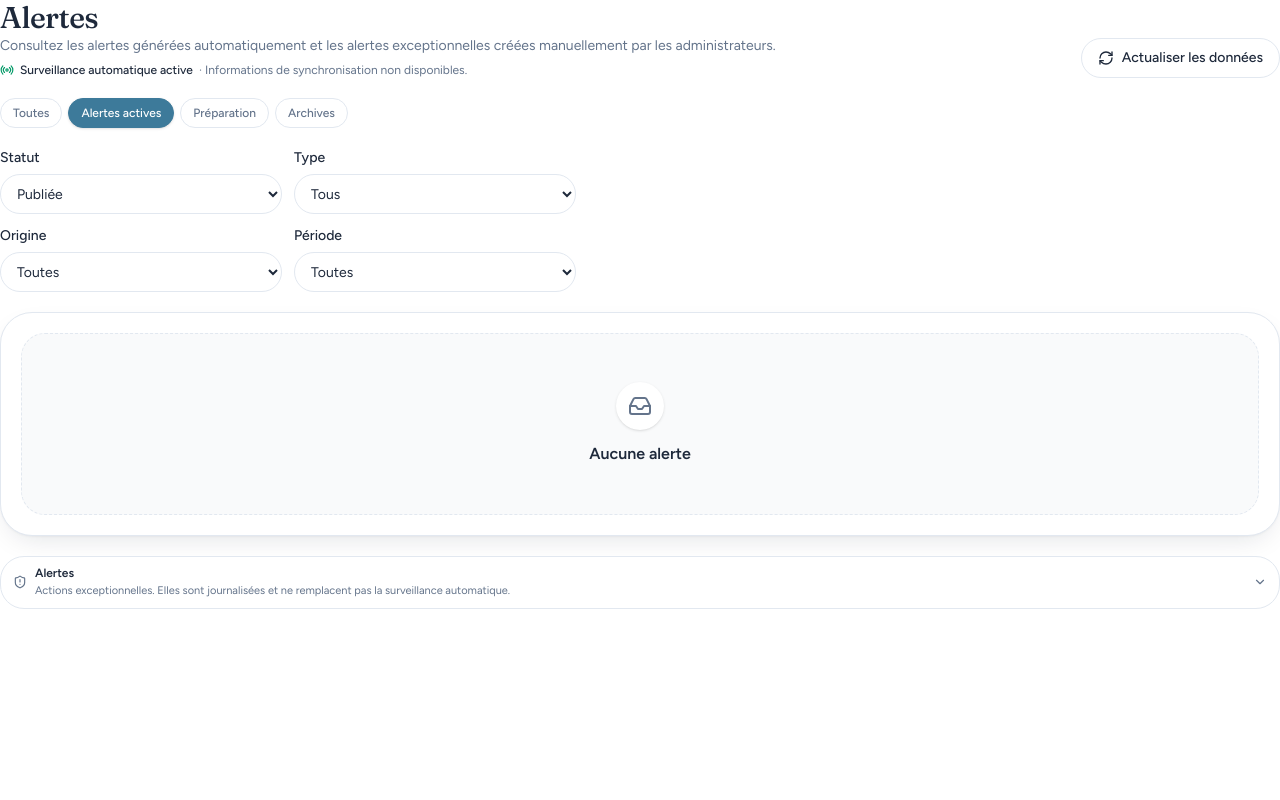
Test case: AlertesPage — création d’une alerte exceptionnelle › ouvre la modale de confirmation avec le résumé sans appeler l’API
Click the button "Actions exceptionnelles".
click(55, 573)  # box [1,557,1279,608]
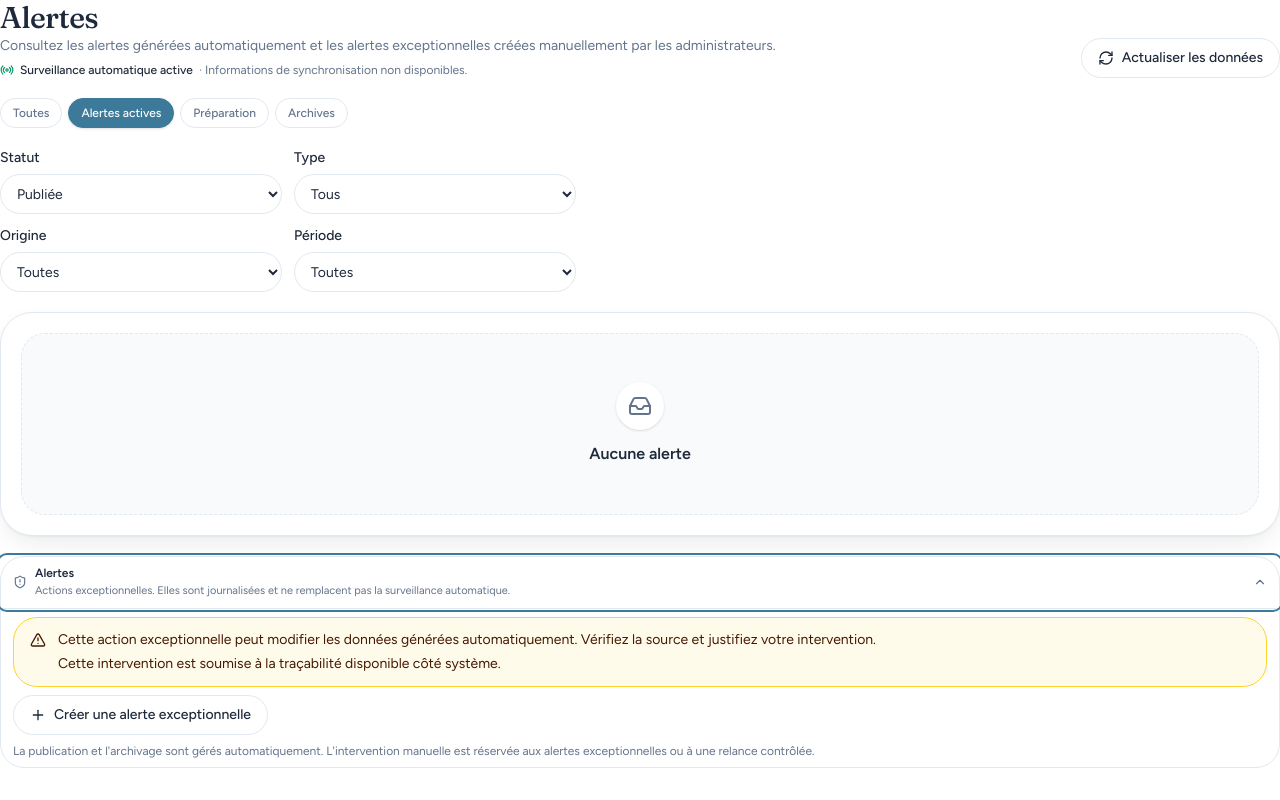
Click the button "Créer une alerte exceptionnelle".
click(140, 714)  # box [13,694,268,734]
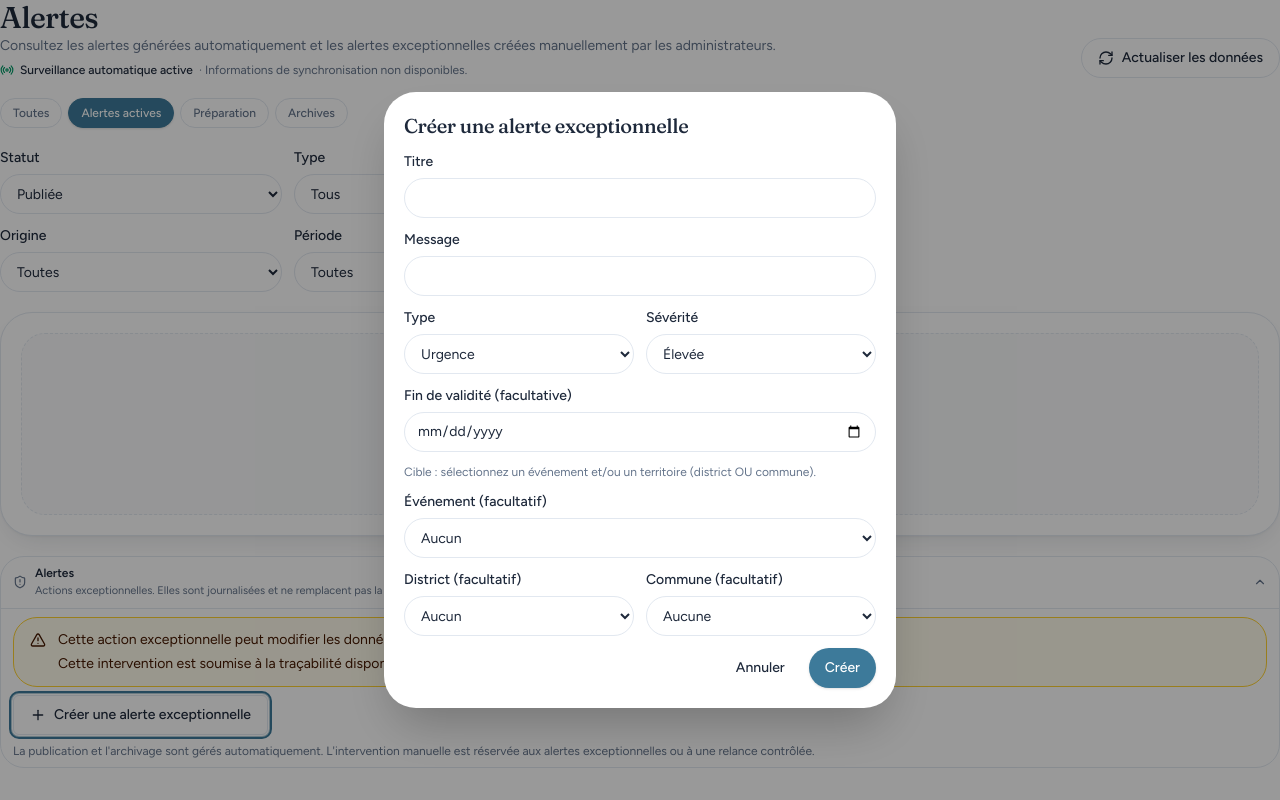
Type "Alerte exceptionnelle" into the field labelled "Titre".
click(640, 198); type("Alerte exceptionnelle")  # box [404,178,876,218]
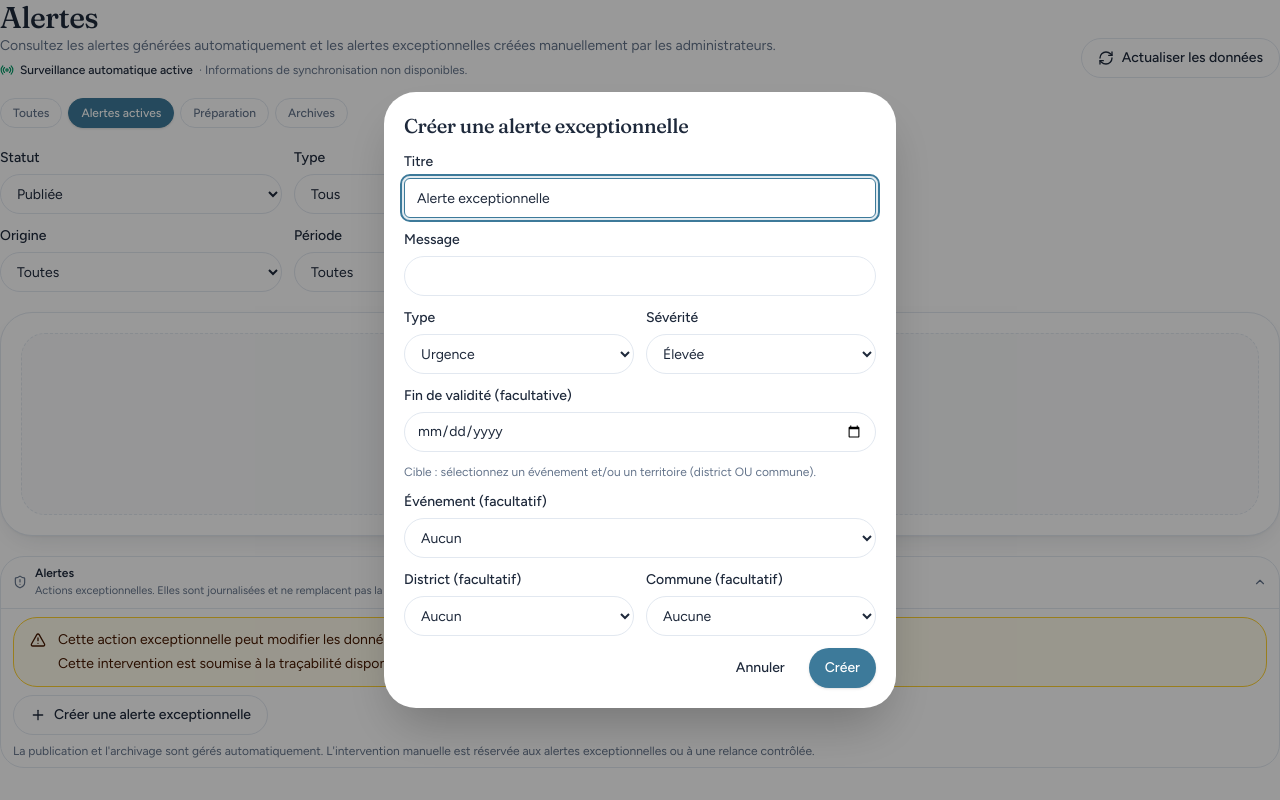
Type "Message de test" into the field labelled "Message".
click(640, 276); type("Message de test")  # box [404,256,876,296]
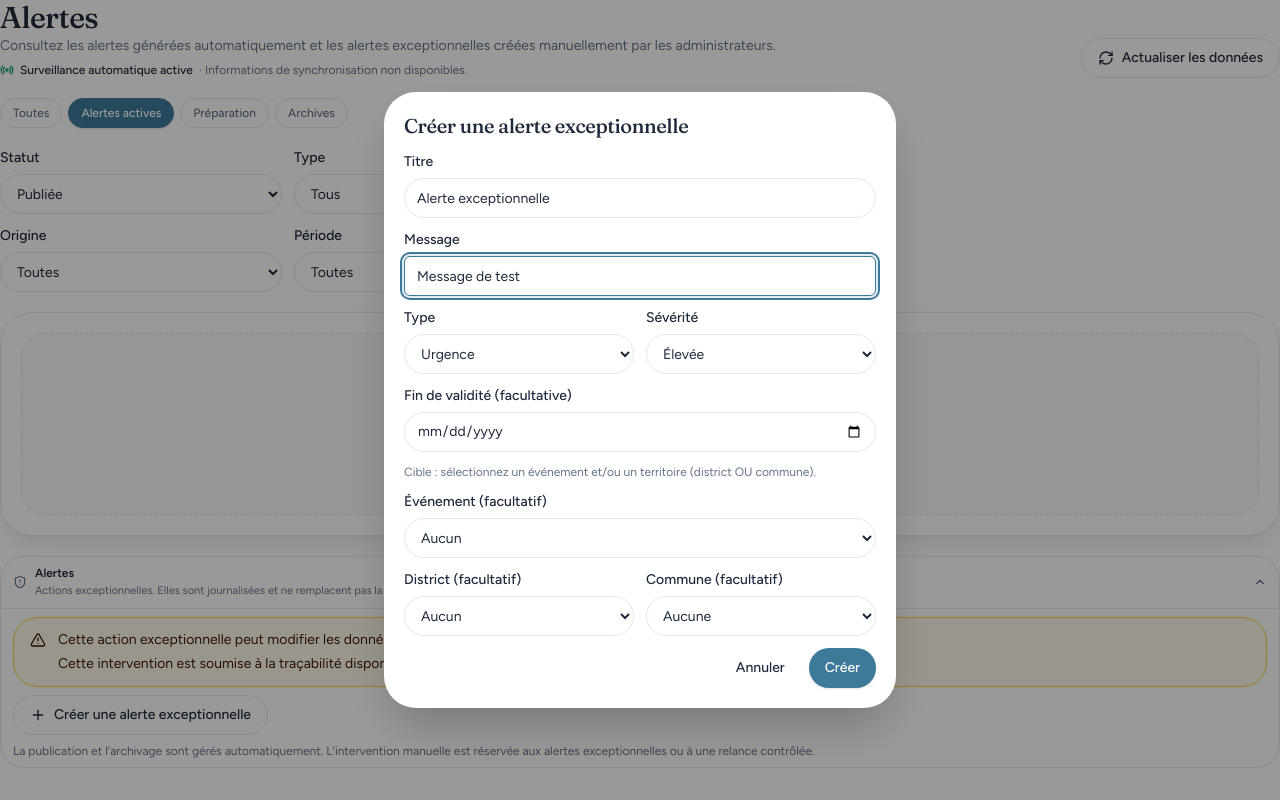
Select "EV-TEST · Événement test" in the dropdown labelled "Événement (facultatif)" at x=640, y=538, box [404,518,876,558]
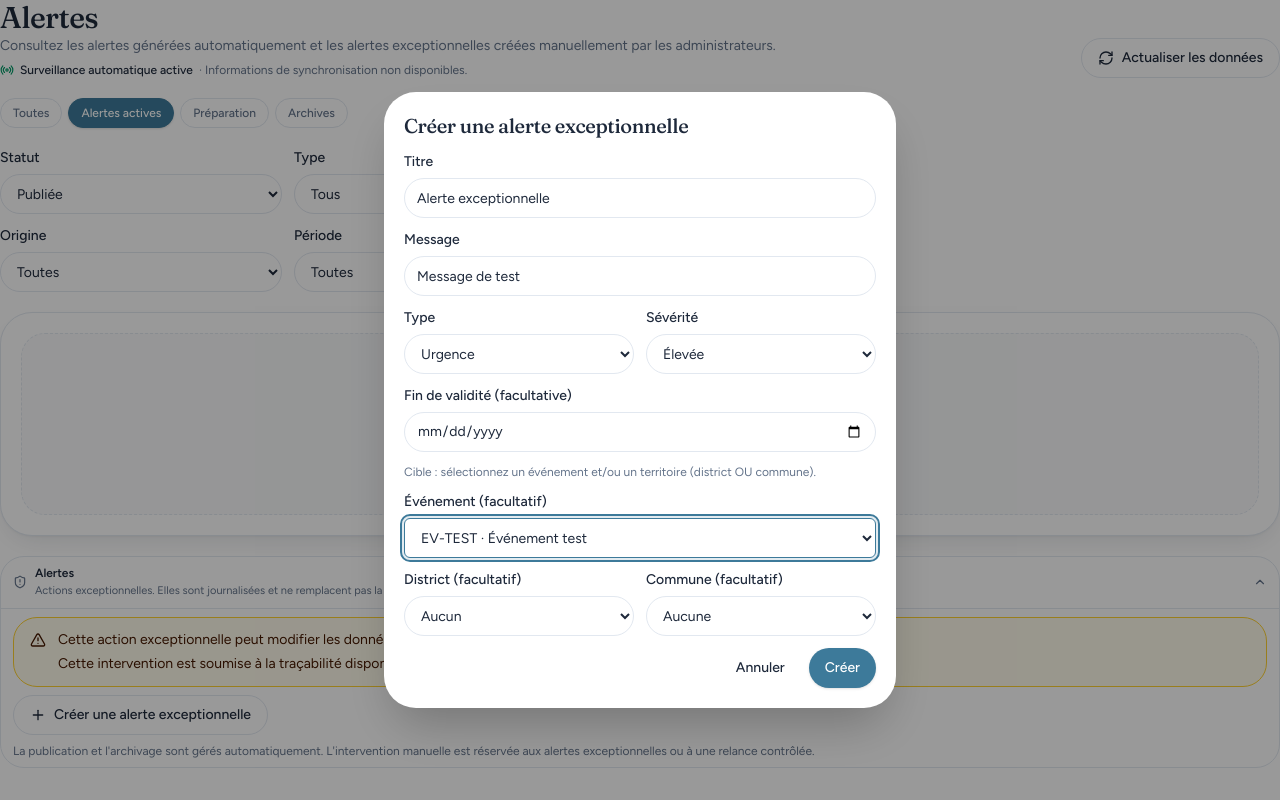
Click the button "Créer".
click(842, 668)  # box [809,648,876,688]
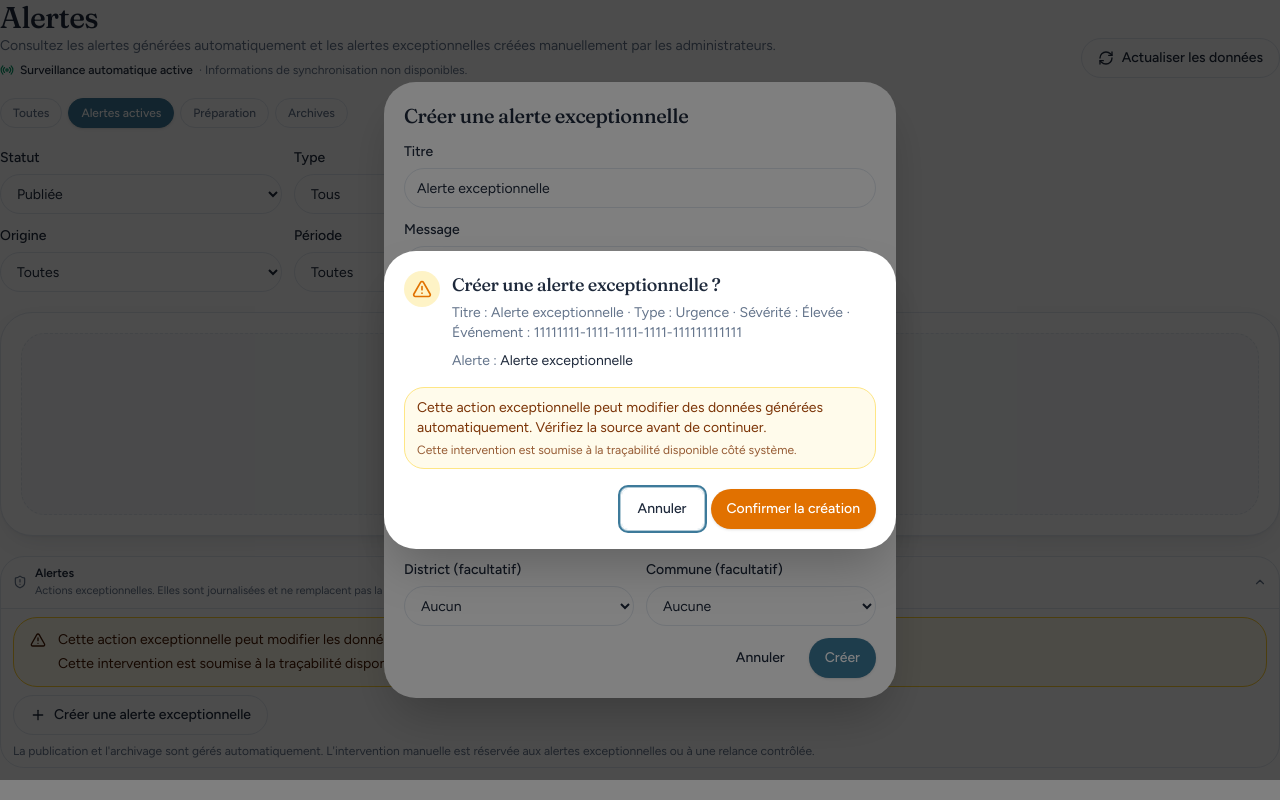
Check: the text "Titre : Alerte exceptionnelle" is shown, box [452,304,850,341]
Check: the text "Cette action exceptionnelle peut modifier des données générées automatiquement. Vérifiez la source avant de continuer." is shown, box [417,399,823,436]
Check: the text "Cette intervention est soumise à la traçabilité disponible côté système." is shown, box [417,442,863,458]
